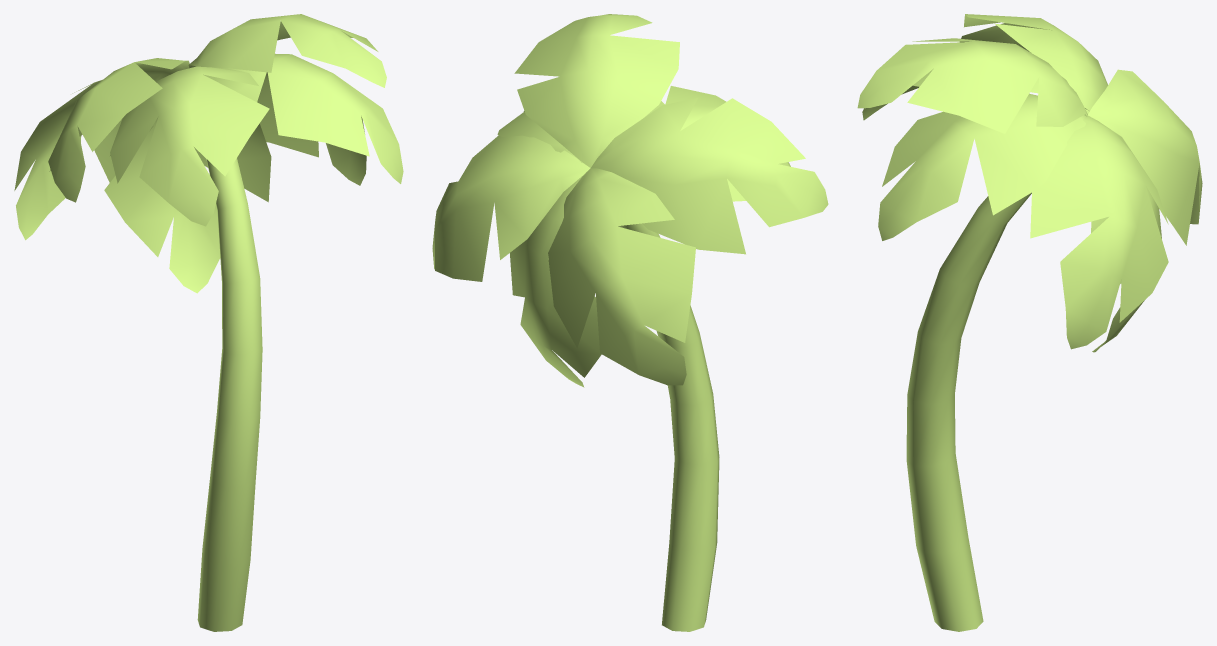
Rendered from Palm.fbx.
3 renders of one model, left to right at view 1: azimuth 30°, elevation 25°; view 2: azimuth 150°, elevation 25°; view 3: azimuth 270°, elevation 25°, orthographic. The views are drawn at different scales.
Visible parts, largest first — view 1: Palm; view 2: Palm; view 3: Palm.
Boxes of the visible parts, x1,y1,x2,y2 form: Palm: [14, 14, 403, 631]; Palm: [432, 14, 828, 631]; Palm: [857, 14, 1202, 631].
Bounding box in the file's own units: 307 × 494 × 251.
Materials: 1 (1 with a texture image).
